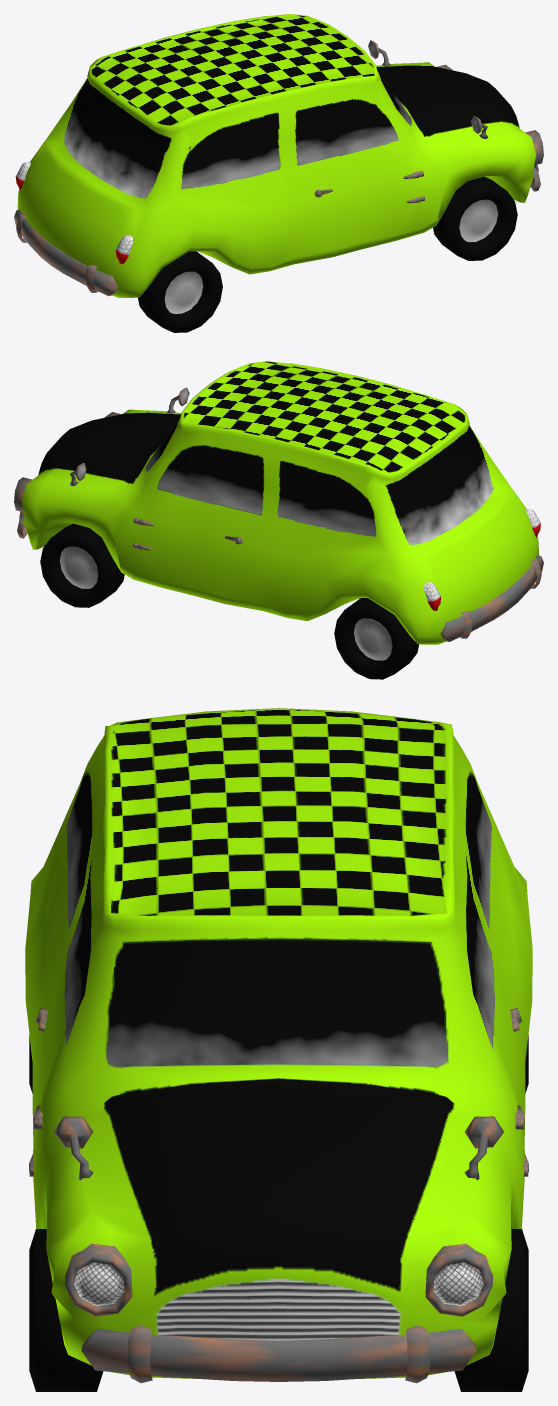
The model's file is cargreenvariant1.glb.
3 views of the same model, one above another, from view 1: azimuth 30°, elevation 25°; view 2: azimuth 150°, elevation 25°; view 3: azimuth 270°, elevation 25° (orthographic). The views are drawn at different scales.
Visible parts, largest first — view 1: cargreenvariant1, lowpolywheel.013, lowpolywheel.014, Cube.010, backlight.003, RETROVISEURLOW.003; view 2: cargreenvariant1, lowpolywheel.016, lowpolywheel.015, Cube.010, backlight.003, RETROVISEURLOW.003; view 3: cargreenvariant1, Cube.011, lightinfront.003, lowpolywheel.013, lowpolywheel.016, RETROVISEURLOW.003, Cube.012.
Part boxes in pixels (x1,y1,x2,y2): cargreenvariant1: (17,14,536,297); lowpolywheel.013: (433,176,517,260); lowpolywheel.014: (138,251,222,332); Cube.010: (14,209,118,296); backlight.003: (15,162,132,264); RETROVISEURLOW.003: (368,40,488,139); cargreenvariant1: (21,361,538,644); lowpolywheel.016: (40,523,124,607); lowpolywheel.015: (334,598,418,679); Cube.010: (440,555,543,641); backlight.003: (424,509,540,610); RETROVISEURLOW.003: (69,387,189,486); cargreenvariant1: (25,708,532,1378); Cube.011: (81,1326,476,1383); lightinfront.003: (65,1243,492,1316); lowpolywheel.013: (29,1229,103,1391); lowpolywheel.016: (454,1229,528,1391); RETROVISEURLOW.003: (54,1116,503,1180); Cube.012: (29,1008,528,1176).
Bounding box in the file's own units: 8.13 × 3.46 × 3.93.
1 material, 1 textured.
